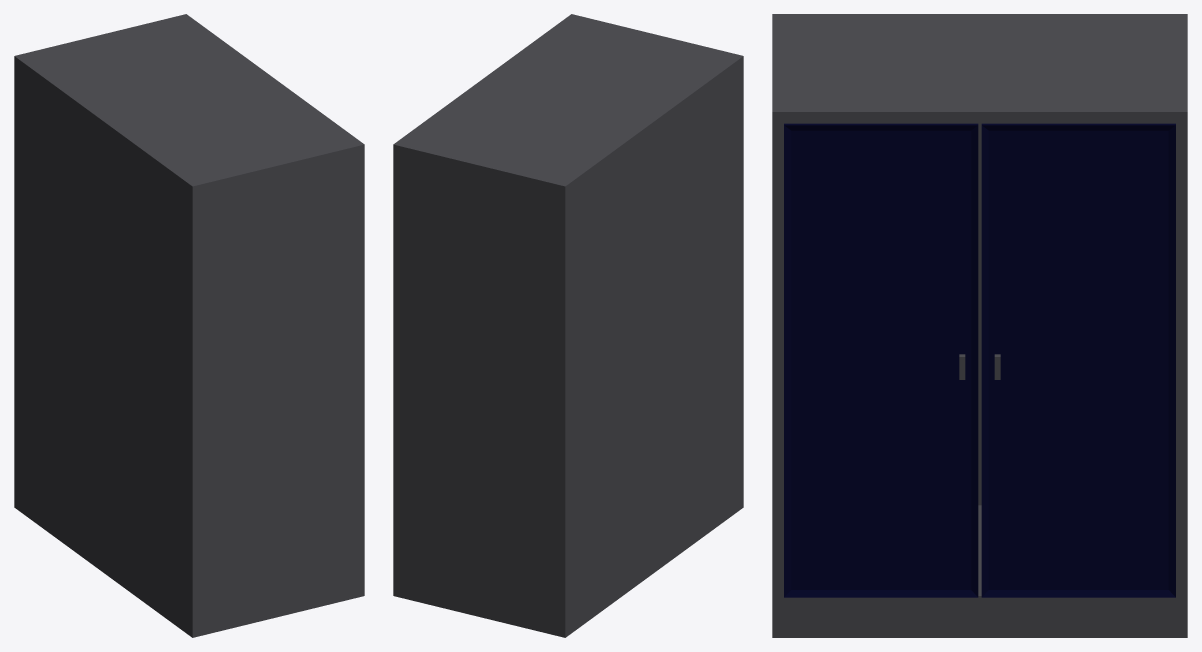
File: Taquilla.fbx
The picture shows the model from 3 angles, left to right: view 1: azimuth 30°, elevation 25°; view 2: azimuth 150°, elevation 25°; view 3: azimuth 270°, elevation 25°; orthographic projection. The views are drawn at different scales.
Parts seen in each view (by area): view 1: Taquilla; view 2: Taquilla; view 3: PuertaTaquilla, Taquilla.
Boxes of the visible parts, left/top/right/bottom form: Taquilla: left=14, top=14, right=364, bottom=637; Taquilla: left=393, top=14, right=743, bottom=637; PuertaTaquilla: left=784, top=123, right=1175, bottom=597; Taquilla: left=772, top=14, right=1187, bottom=637.
Bounding box in the file's own units: 0.9083 × 2.2 × 1.58.
